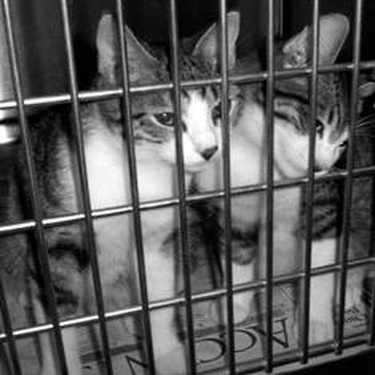cat: (4, 9, 255, 374), (142, 9, 372, 371), (6, 148, 60, 371), (356, 196, 360, 371)
